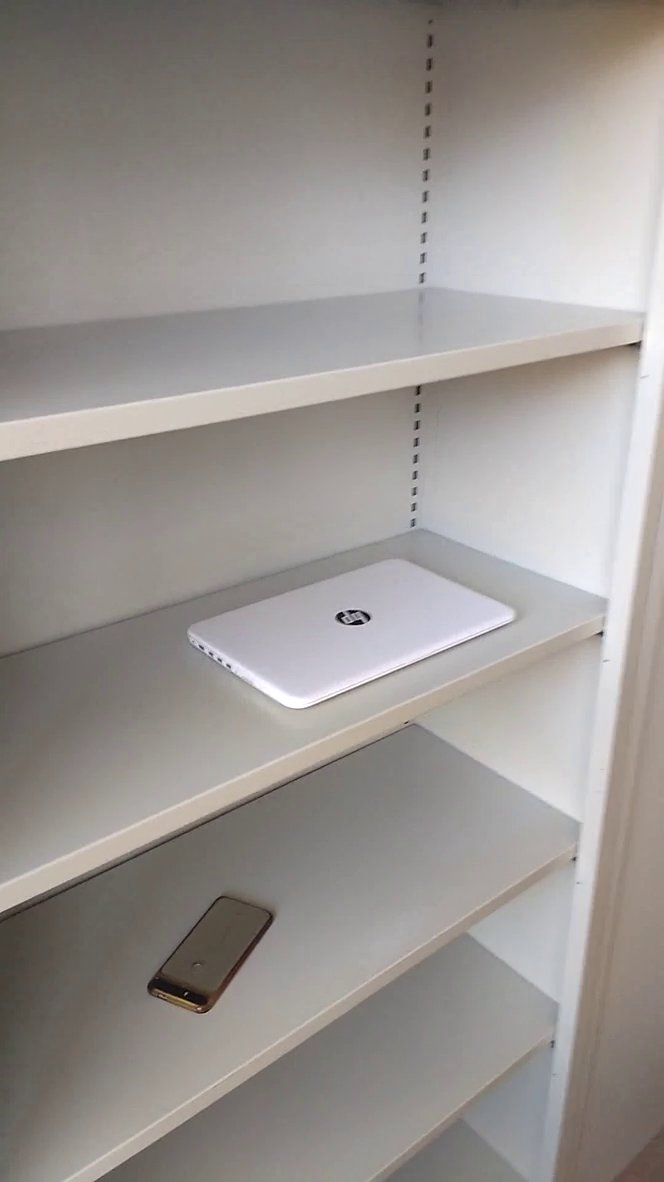laptop: (174, 548, 526, 725)
phone: (142, 885, 286, 1030)
